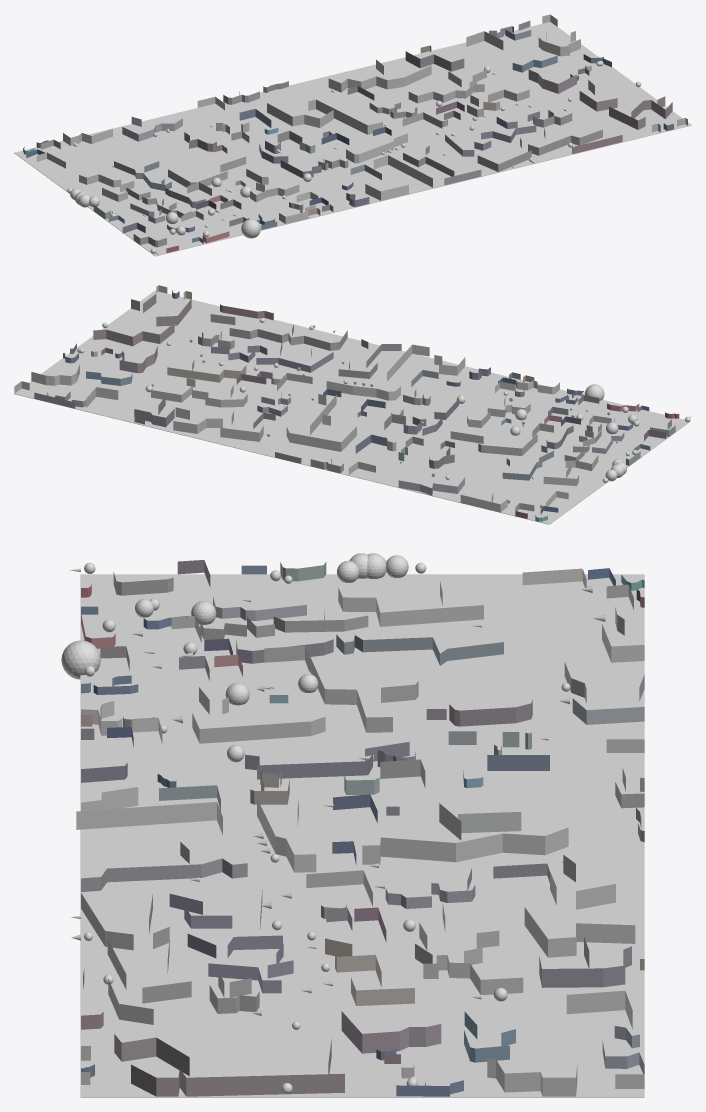
Rendered from scene_d9aae943-5f11-4cb1-8560-758482aef8a8.glb.
3 views of the same model, one above another, from view 1: azimuth 30°, elevation 25°; view 2: azimuth 150°, elevation 25°; view 3: azimuth 270°, elevation 25° (orthographic). The views are drawn at different scales.
Parts seen in each view (by area): view 1: Ground_Base, BLD-076, BLD-042, BLD-022, BLD-083, BLD-035, BLD-071, BLD-057, BLD-030, BLD-039, BLD-066, BLD-082 (+14 smaller); view 2: Ground_Base, BLD-042, BLD-022, BLD-076, BLD-083, BLD-035, BLD-071, BLD-058, BLD-038, BLD-057, BLD-030, BLD-066 (+12 smaller); view 3: Ground_Base, BLD-076, BLD-042, BLD-035, BLD-083, BLD-022, BLD-027, BLD-071, BLD-030, BLD-039, BLD-054, BLD-066 (+26 smaller).
Part boxes in pixels (x1=…): Ground_Base: x1=14, y1=22, x2=691, y2=256; BLD-076: x1=267, y1=99, x2=382, y2=134; BLD-042: x1=579, y1=80, x2=672, y2=129; BLD-022: x1=477, y1=128, x2=602, y2=171; BLD-083: x1=328, y1=59, x2=431, y2=92; BLD-035: x1=445, y1=111, x2=539, y2=156; BLD-071: x1=408, y1=70, x2=486, y2=103; BLD-057: x1=467, y1=89, x2=529, y2=117; BLD-030: x1=403, y1=145, x2=481, y2=185; BLD-039: x1=246, y1=169, x2=299, y2=202; BLD-066: x1=79, y1=174, x2=134, y2=201; BLD-082: x1=405, y1=51, x2=464, y2=71; Ground_Base: x1=14, y1=290, x2=690, y2=524; BLD-042: x1=93, y1=294, x2=191, y2=346; BLD-022: x1=210, y1=314, x2=347, y2=350; BLD-076: x1=286, y1=394, x2=356, y2=451; BLD-083: x1=173, y1=407, x2=263, y2=441; BLD-035: x1=211, y1=341, x2=333, y2=372; BLD-071: x1=151, y1=378, x2=247, y2=407; BLD-058: x1=450, y1=431, x2=537, y2=455; BLD-038: x1=326, y1=381, x2=400, y2=400; BLD-057: x1=167, y1=359, x2=246, y2=382; BLD-030: x1=338, y1=339, x2=401, y2=378; BLD-066: x1=543, y1=455, x2=598, y2=485; Ground_Base: x1=80, y1=574, x2=644, y2=1097; BLD-076: x1=362, y1=803, x2=568, y2=864; BLD-042: x1=114, y1=1034, x2=344, y2=1096; BLD-035: x1=169, y1=890, x2=293, y2=993; BLD-083: x1=524, y1=855, x2=635, y2=957; BLD-022: x1=81, y1=893, x2=191, y2=1024; BLD-027: x1=76, y1=802, x2=222, y2=834; BLD-071: x1=415, y1=903, x2=523, y2=994; BLD-030: x1=81, y1=842, x2=247, y2=891; BLD-039: x1=192, y1=687, x2=325, y2=743; BLD-054: x1=245, y1=741, x2=409, y2=779; BLD-066: x1=338, y1=581, x2=483, y2=626.
Size of the model in its own units: 602 by 19 by 280.
